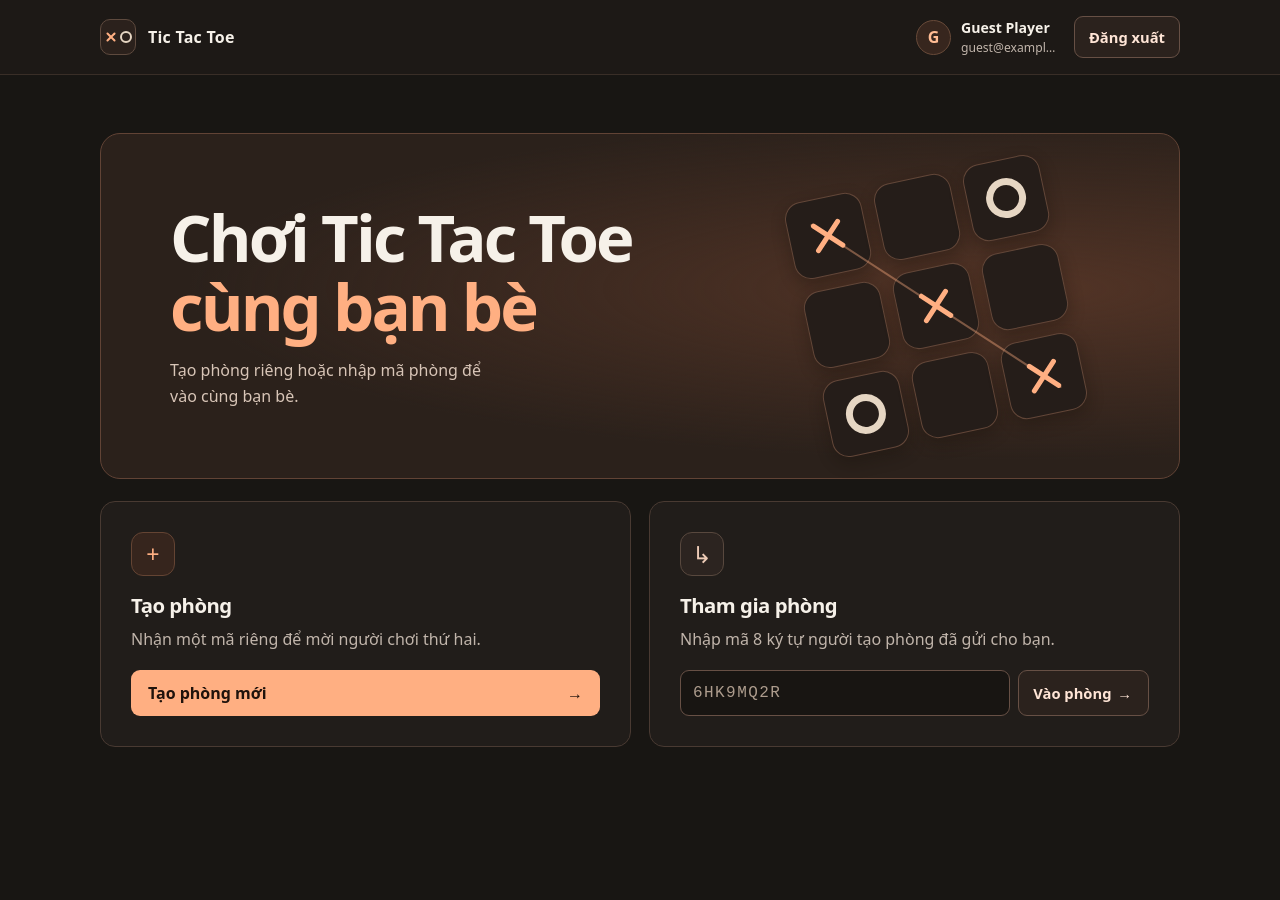
Test case: Tham gia phòng chơi › chuẩn hóa mã trước khi gửi và hiển thị hai người trong phòng chờ
Type " 6hk9mq2r " into the field named "Mã phòng" at (845, 694), box [680,670,1010,716]
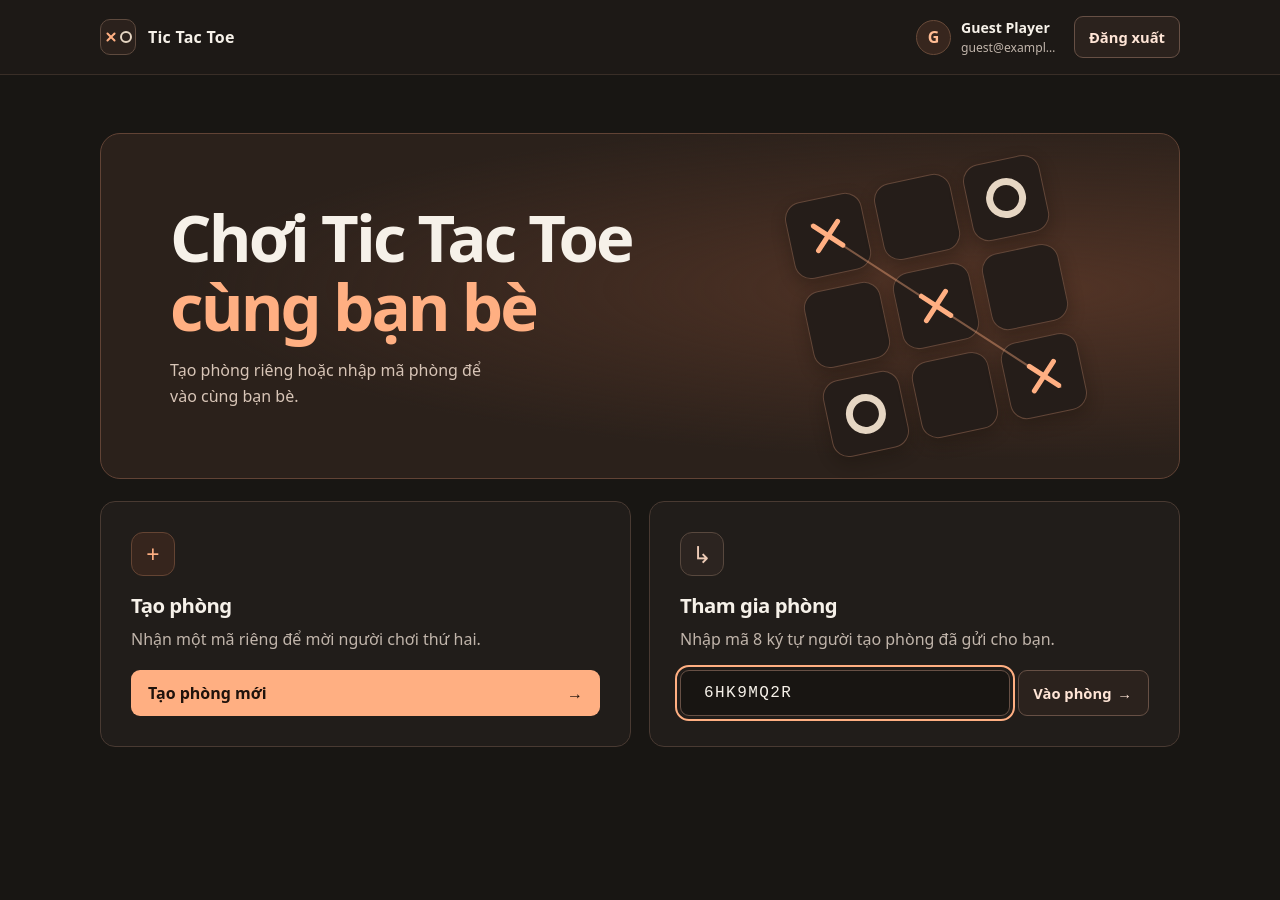
Click the button "Vào phòng →" at (1084, 694), box [1018,670,1149,716]
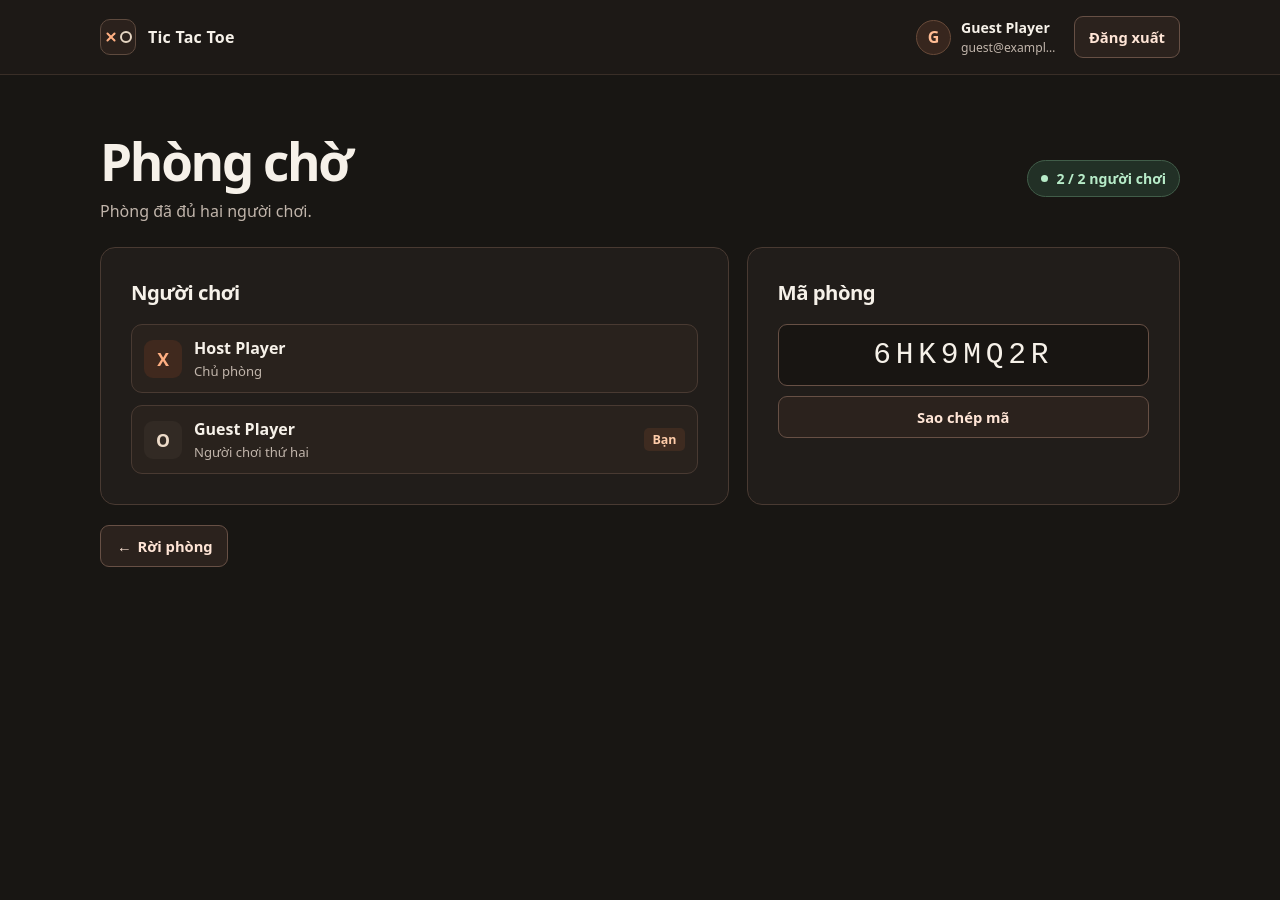
Expected: the heading "Phòng chờ" is shown, [100,133,351,190]
Expected: the text "2 / 2 người chơi" is shown, [1027,160,1180,197]
Expected: the text "Host Player" is shown, [194,337,286,359]
